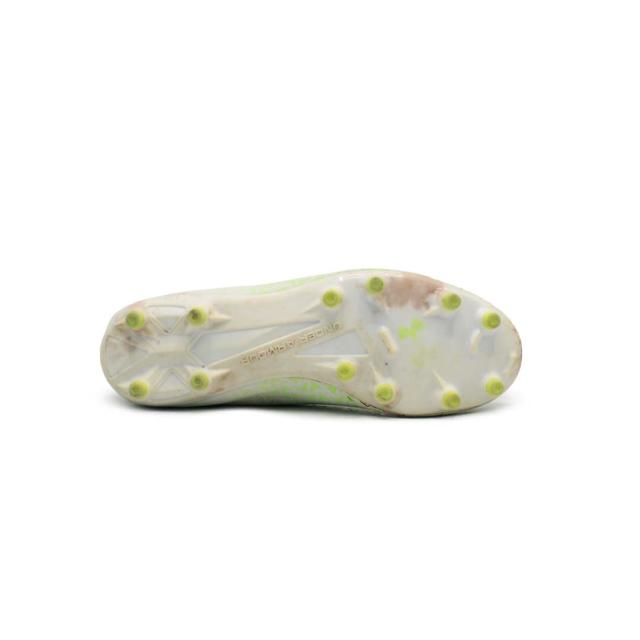outersole: (102, 270, 522, 414)
